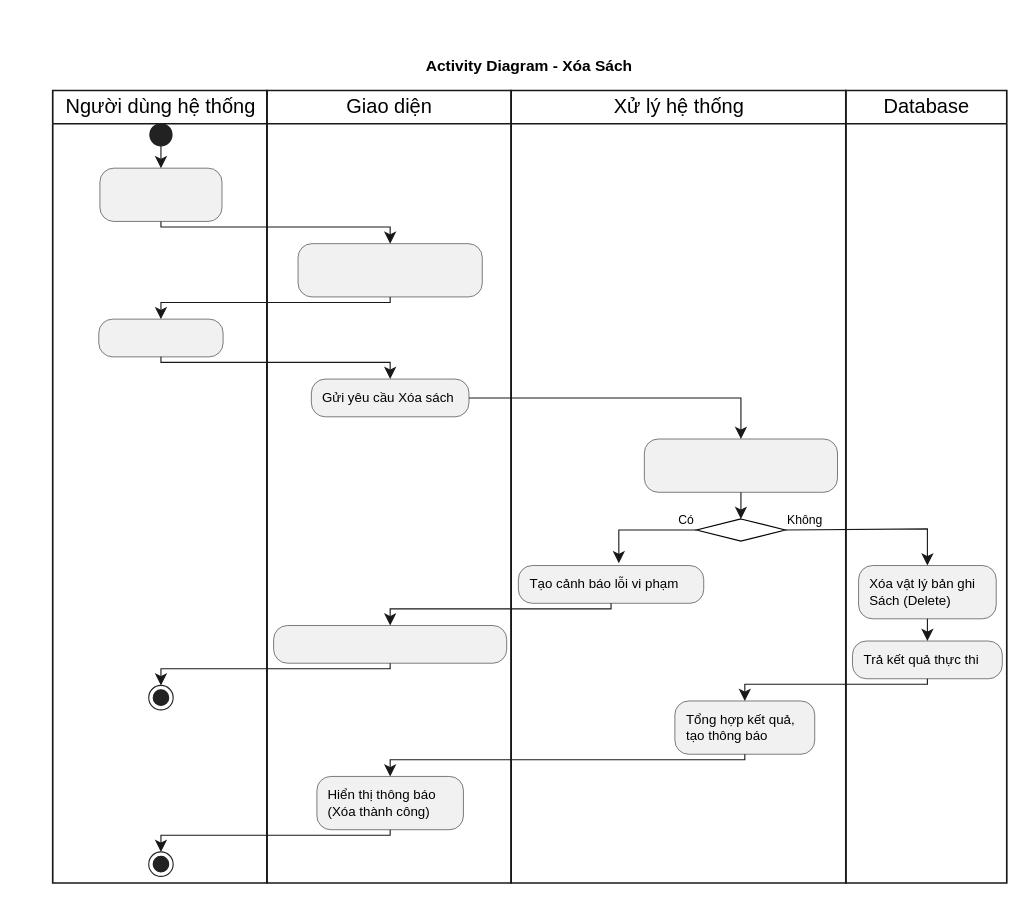
Some shapes in this 1027 by 902 pixel diagram are drawn without their labels. Each missing label, with the centre of its shape:
Bấm Đồng ý xóa: (160,337)
Chọn một Sách và bấm nút Xóa: (160,194)
Cảnh báo: Không thể xóa dữ liệu: (389,644)
Hiển thị Popup xác nhận thao tác xóa: (389,270)
Kiểm tra lịch sử giao dịch (Hóa đơn/Phiếu nhập): (740,465)
